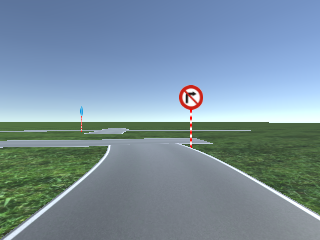-5: (1, 197, 320, 239)
NoRight: (178, 85, 203, 110)
